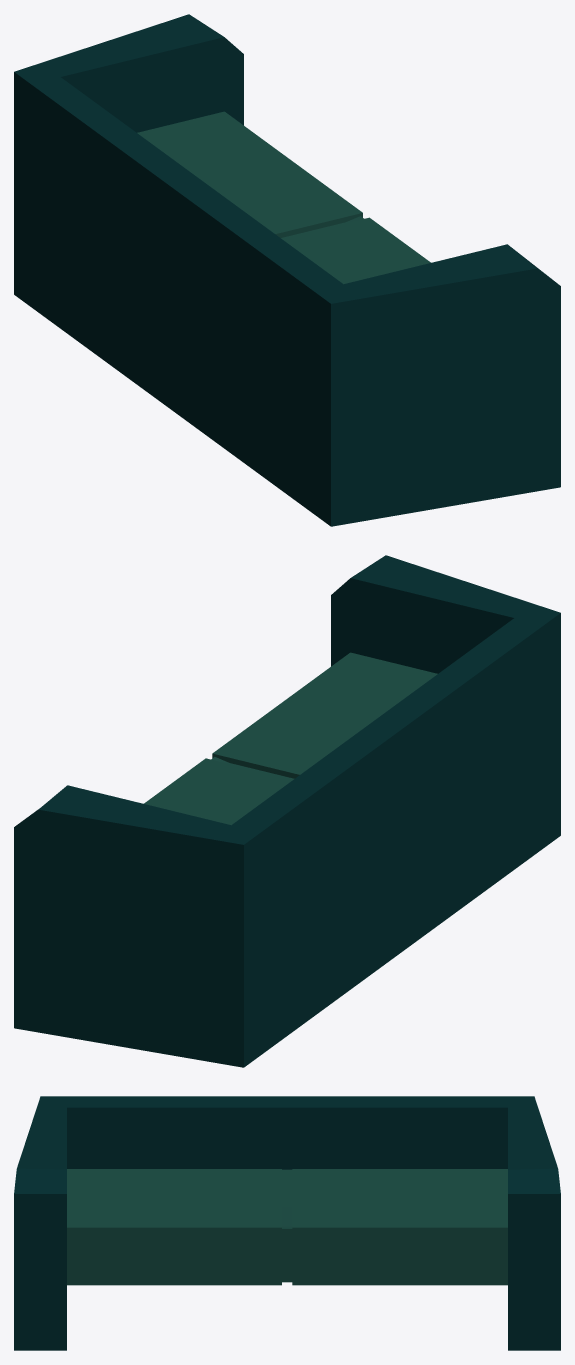
The model's file is sofa.fbx.
3 renders of one model, top to bottom at view 1: azimuth 30°, elevation 25°; view 2: azimuth 150°, elevation 25°; view 3: azimuth 270°, elevation 25°, orthographic. The views are drawn at different scales.
Visible parts, largest first — view 1: sofa_geo; view 2: sofa_geo; view 3: sofa_geo.
Part boxes in pixels (x1=…): sofa_geo: x1=14, y1=14, x2=560, y2=526; sofa_geo: x1=14, y1=555, x2=560, y2=1067; sofa_geo: x1=14, y1=1096, x2=560, y2=1350.
Size of the model in its own units: 271 by 271 by 774.
